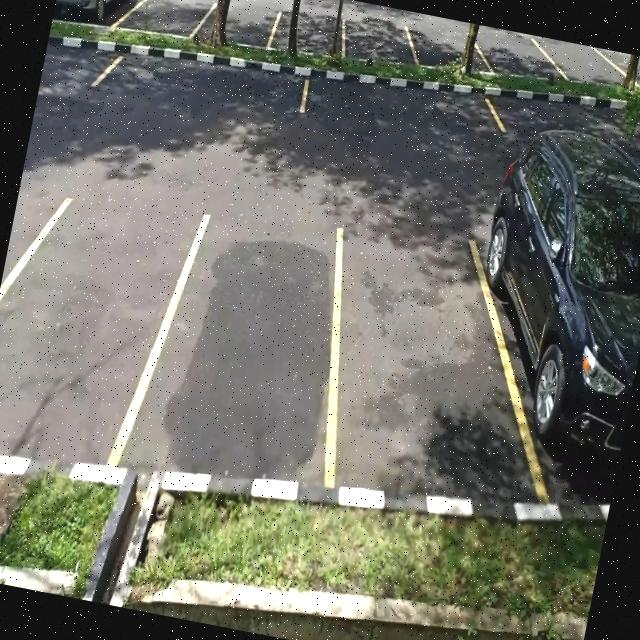empty: (131, 200, 354, 498), (306, 211, 512, 514), (0, 195, 174, 478), (94, 36, 310, 136), (298, 62, 504, 162), (269, 0, 351, 66), (336, 8, 422, 68), (196, 0, 283, 55), (478, 28, 551, 84), (408, 24, 484, 77), (544, 39, 618, 93), (135, 0, 212, 42), (613, 52, 640, 94)
occupied: (465, 173, 640, 505), (52, 0, 143, 35)
